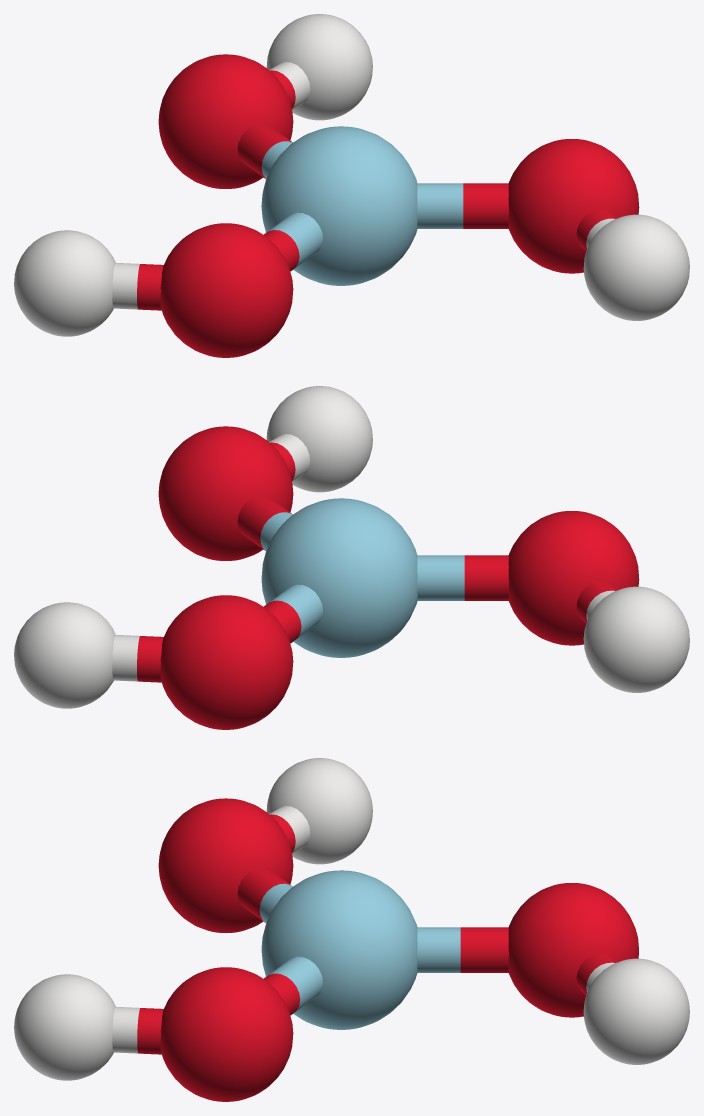
The model's file is jingti2.FBX.
3 views of the same model, one above another, from view 1: azimuth 30°, elevation 25°; view 2: azimuth 150°, elevation 25°; view 3: azimuth 270°, elevation 25° (orthographic).
Visible parts, largest first — view 1: F2; view 2: F2; view 3: F2.
Boxes of the visible parts, bbox=[...] form: F2: bbox=[14, 14, 689, 357]; F2: bbox=[14, 386, 689, 729]; F2: bbox=[14, 758, 689, 1101].
Size of the model in its own units: 36.59 by 9 by 38.11.
